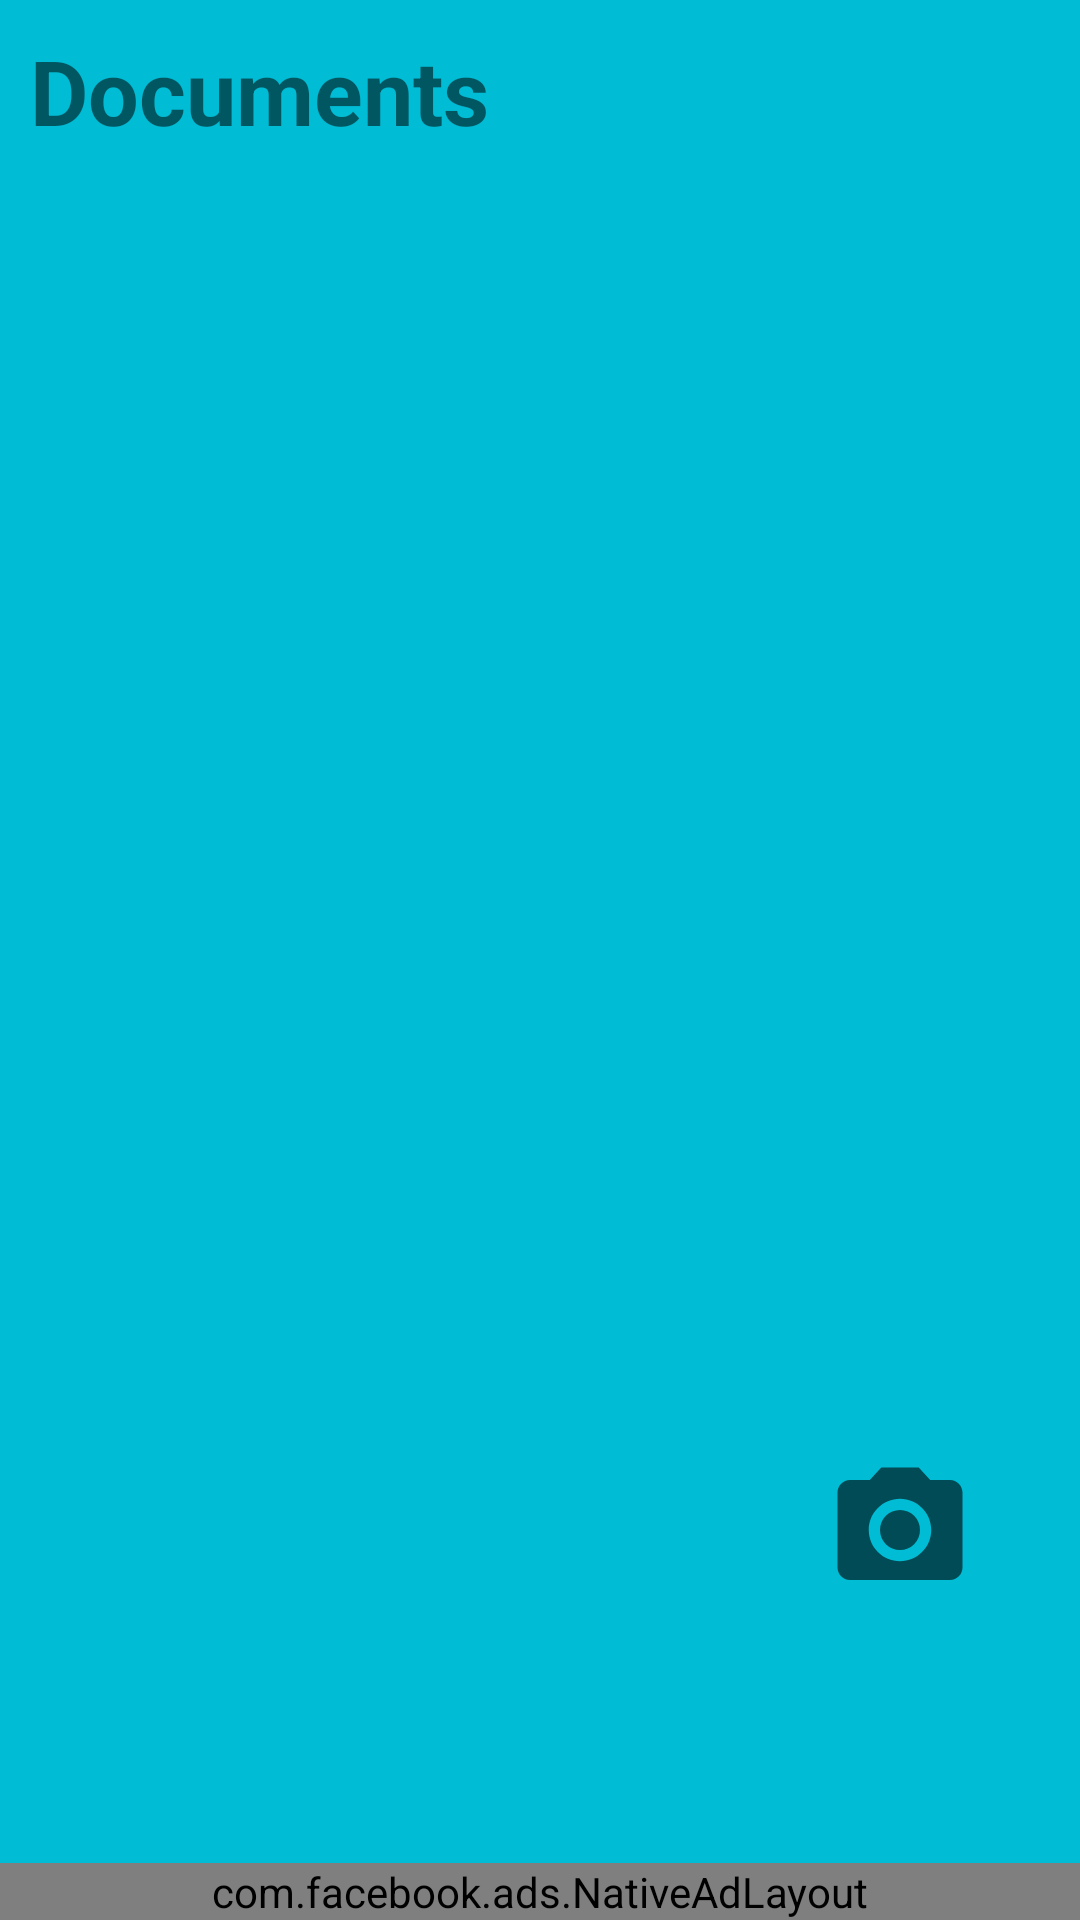

Screen size 1080×1920. Icon name, then its center in pixels as point (x, y):
camera: point (900, 1523)
